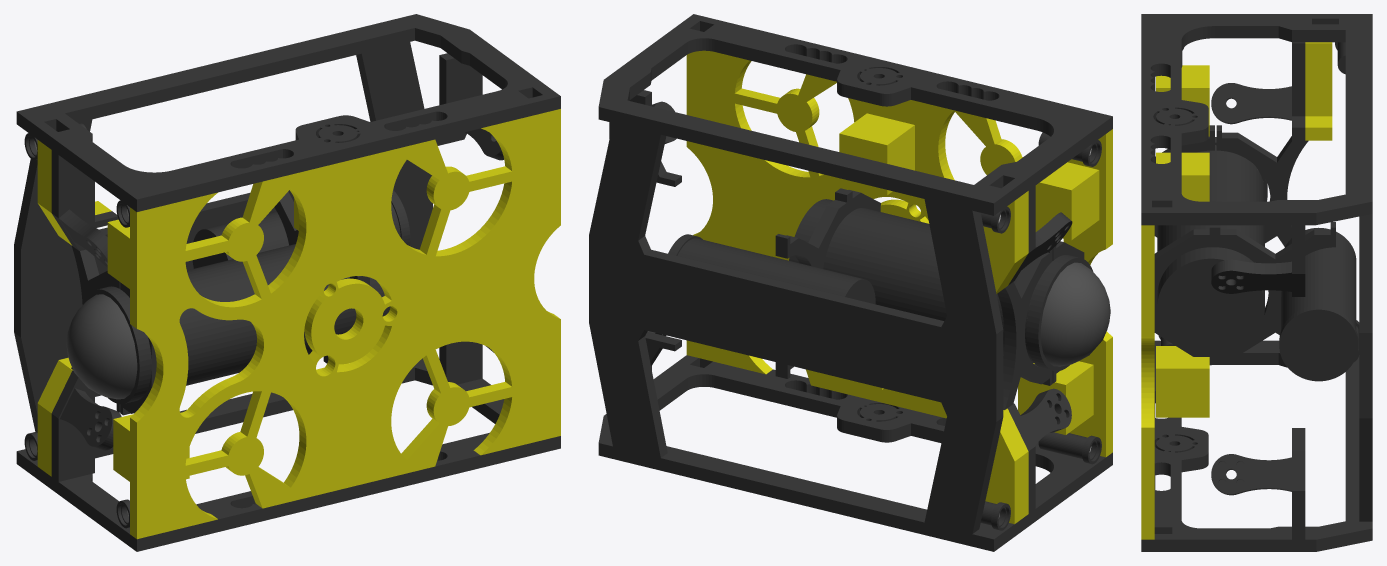
The model's file is vehicle.dae.
3 renders of one model, left to right at view 1: azimuth 30°, elevation 25°; view 2: azimuth 150°, elevation 25°; view 3: azimuth 270°, elevation 25°, orthographic. The views are drawn at different scales.
Parts seen in each view (by area): view 1: Nulo_, lateral, inferior, lateral2, Esfera, soporte_fronmtal.1, soporte_fronmtal, pata.2, soporte_trasero.1, soporte_fronmtal.3, soporte_trasero, soporte_fronmtal.2 (+3 smaller); view 2: inferior, Nulo_, lateral, lateral2, Esfera, Cubo, Cubo.2, soporte_fronmtal.3, soporte_fronmtal.2, Cubo.1, luz (×2), pata.2 (+5 smaller); view 3: Nulo_, lateral, lateral2, inferior, Cubo.3, soporte_fronmtal.2, pata.1, pata, pata.3, Cubo.2, soporte_trasero, Cubo (+2 smaller).
Boxes of the visible parts, <box> form: Nulo_: <box>71,109,560,539</box>; lateral: <box>16,14,560,211</box>; inferior: <box>14,42,432,432</box>; lateral2: <box>16,358,560,551</box>; Esfera: <box>66,294,137,399</box>; soporte_fronmtal.1: <box>51,370,101,481</box>; soporte_fronmtal: <box>51,150,118,250</box>; pata.2: <box>60,388,121,450</box>; soporte_trasero.1: <box>435,53,482,145</box>; soporte_fronmtal.3: <box>37,357,72,476</box>; soporte_trasero: <box>439,341,482,384</box>; soporte_fronmtal.2: <box>37,140,111,245</box>; inferior: <box>589,123,1003,533</box>; Nulo_: <box>668,50,1112,457</box>; lateral: <box>598,14,1112,215</box>; lateral2: <box>598,355,1112,551</box>; Esfera: <box>1026,262,1110,366</box>; Cubo: <box>1035,162,1099,240</box>; Cubo.2: <box>839,113,914,195</box>; soporte_fronmtal.3: <box>985,408,1028,524</box>; soporte_fronmtal.2: <box>983,191,1028,293</box>; Cubo.1: <box>1018,361,1093,434</box>; luz (×2): <box>980,432,1101,530</box>; pata.2: <box>1020,388,1071,445</box>; Nulo_: <box>1141,125,1358,539</box>; lateral: <box>1141,14,1372,225</box>; lateral2: <box>1141,340,1372,551</box>; inferior: <box>1359,214,1372,521</box>; Cubo.3: <box>1156,346,1209,417</box>; soporte_fronmtal.2: <box>1305,42,1332,140</box>; pata.1: <box>1211,454,1291,495</box>; pata: <box>1211,83,1291,124</box>; pata.3: <box>1211,259,1291,293</box>; Cubo.2: <box>1156,152,1209,201</box>; soporte_trasero: <box>1292,428,1305,539</box>; Cubo: <box>1156,65,1209,136</box>.
Size of the model in its own units: 373 by 278 by 172.
